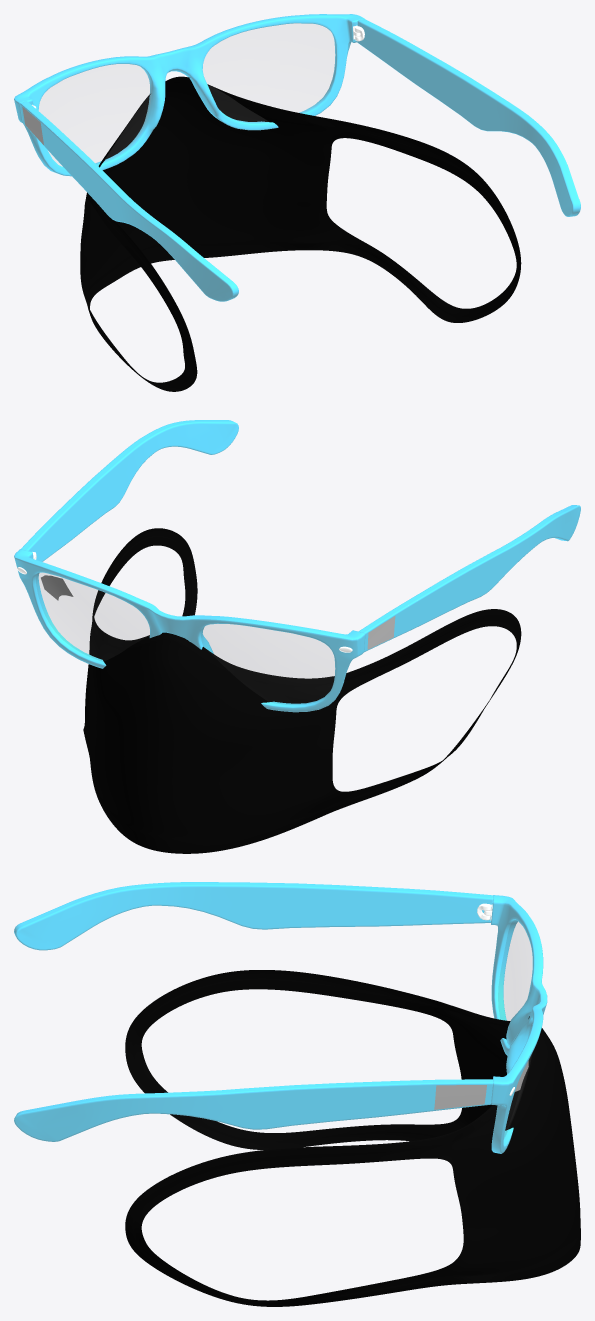
The model's file is mask.gltf.
3 views of the same model, one above another, from view 1: azimuth 30°, elevation 25°; view 2: azimuth 150°, elevation 25°; view 3: azimuth 270°, elevation 25° (orthographic). The views are drawn at different scales.
Visible parts, largest first — view 1: Mask, glass, front_inner, bow_r_inner, bow_l_outer, bow_l_inner; view 2: Mask, glass, bow_r_inner, front, bow_l_outer, front_inner, bow_l_inner; view 3: Mask, bow_l_inner, bow_r_outer, front_inner, glass, bow_r_inner, front, logo_important_2.
Part boxes in pixels (box(x1,y1,x2,y2)): Mask: box(80, 76, 521, 391); glass: box(39, 24, 335, 164); front_inner: box(14, 14, 364, 176); bow_r_inner: box(356, 19, 580, 216); bow_l_outer: box(20, 103, 233, 301); bow_l_inner: box(20, 101, 238, 301); Mask: box(83, 528, 521, 853); glass: box(36, 573, 334, 704); bow_r_inner: box(21, 420, 238, 561); front: box(14, 556, 357, 712); bow_l_outer: box(364, 505, 580, 651); front_inner: box(14, 549, 365, 705); bow_l_inner: box(358, 505, 579, 632); Mask: box(125, 970, 580, 1306); bow_l_inner: box(14, 882, 493, 950); bow_r_outer: box(14, 1083, 492, 1141); front_inner: box(491, 895, 547, 1153); glass: box(498, 920, 531, 1137); bow_r_inner: box(14, 1079, 493, 1141); front: box(499, 920, 547, 1153); logo_important_2: box(434, 1085, 486, 1109).
Bounding box in the file's own units: 146 × 83.33 × 163.
